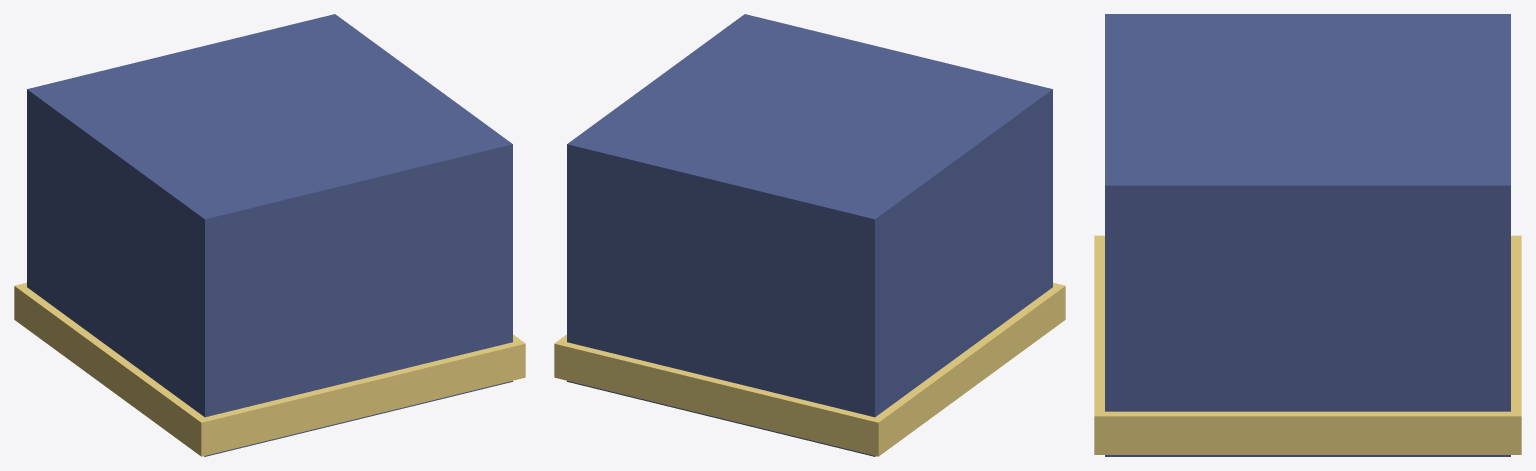
Rendered from kamishimo_manga_inf.glb.
3 renders of one model, left to right at view 1: azimuth 30°, elevation 25°; view 2: azimuth 150°, elevation 25°; view 3: azimuth 270°, elevation 25°, orthographic. The views are drawn at different scales.
Visible parts, largest first — view 1: kamishimo_manga_inf; view 2: kamishimo_manga_inf; view 3: kamishimo_manga_inf.
Boxes of the visible parts, left/top/right/bottom form: kamishimo_manga_inf: left=14, top=14, right=525, bottom=456; kamishimo_manga_inf: left=554, top=14, right=1065, bottom=456; kamishimo_manga_inf: left=1094, top=14, right=1521, bottom=456.
Bounding box in the file's own units: 0.3 × 0.21 × 0.3.
